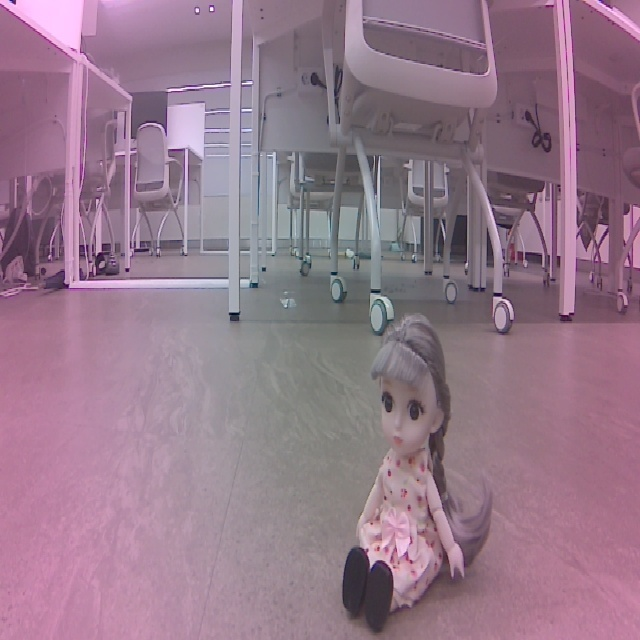장애물: (329, 313, 500, 621)
